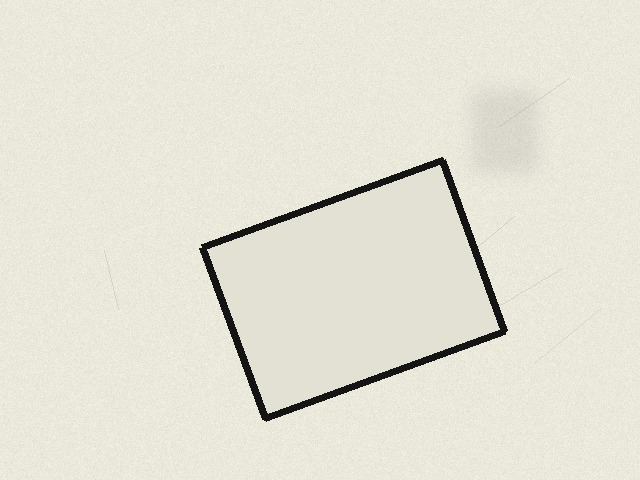parking_area: (202, 160, 504, 418)
